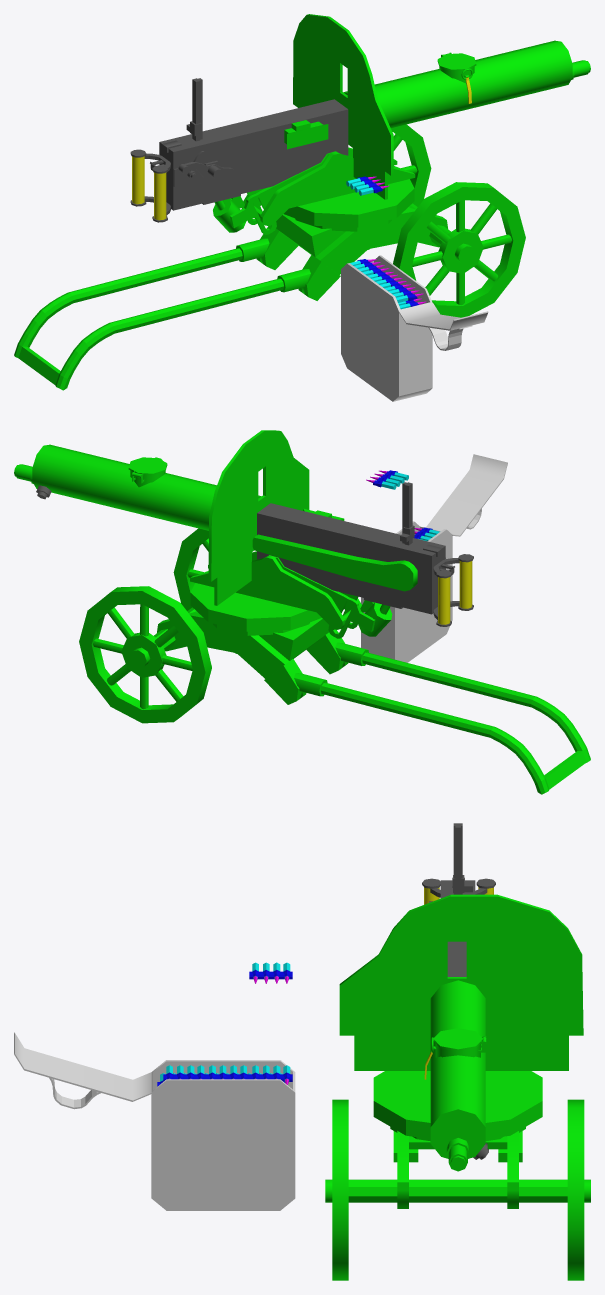
The model's file is PM1910_Maxim_Combinado.fbx.
The picture shows the model from 3 angles, top to bottom: view 1: azimuth 30°, elevation 25°; view 2: azimuth 150°, elevation 25°; view 3: azimuth 270°, elevation 25°; orthographic projection. The views are drawn at different scales.
Visible parts, largest first — view 1: Maxim, Maxim_Rodas, Maxim_Caixa_de_municao, Maxim_Escudo, Maxim_Suporte, Maxim_Eixo, Maxim_Base, Maxim_Controle_do_Eixo, Maxim_Tampa_da_caixa, Soviet_7_62X54R; view 2: Maxim, Maxim_Rodas, Maxim_Escudo, Maxim_Suporte, Maxim_Eixo, Maxim_Base, Maxim_Caixa_de_municao, Maxim_Tampa_da_caixa, Maxim_Controle_do_Eixo, Soviet_7_62X54R; view 3: Maxim_Escudo, Maxim_Caixa_de_municao, Maxim, Maxim_Rodas, Maxim_Eixo, Maxim_Tampa_da_caixa, Maxim_Base, Soviet_7_62X54R.
Part boxes in pixels (x1,y1,x2,y2): Maxim: (130, 40, 590, 222); Maxim_Rodas: (368, 124, 525, 317); Maxim_Caixa_de_municao: (341, 255, 432, 401); Maxim_Escudo: (293, 14, 393, 199); Maxim_Suporte: (14, 238, 310, 390); Maxim_Eixo: (243, 147, 415, 227); Maxim_Base: (256, 207, 447, 300); Maxim_Controle_do_Eixo: (213, 151, 336, 234); Maxim_Tampa_da_caixa: (399, 303, 488, 350); Soviet_7_62X54R: (346, 176, 388, 195); Maxim: (14, 444, 473, 626); Maxim_Rodas: (79, 528, 236, 723); Maxim_Escudo: (208, 430, 309, 605); Maxim_Suporte: (294, 642, 590, 794); Maxim_Eixo: (190, 551, 361, 631); Maxim_Base: (157, 611, 348, 704); Maxim_Caixa_de_municao: (361, 521, 452, 662); Maxim_Tampa_da_caixa: (422, 454, 507, 536); Maxim_Controle_do_Eixo: (269, 555, 392, 638); Soviet_7_62X54R: (366, 470, 408, 489); Maxim_Escudo: (339, 894, 583, 1070); Maxim_Caixa_de_municao: (151, 1060, 295, 1210); Maxim: (422, 823, 495, 1171); Maxim_Rodas: (325, 1099, 590, 1280); Maxim_Eixo: (373, 1071, 542, 1138); Maxim_Tampa_da_caixa: (14, 1032, 151, 1109); Maxim_Base: (390, 1127, 525, 1208); Soviet_7_62X54R: (249, 962, 292, 983).
Bounding box in the file's own units: 173 × 81 × 126.
